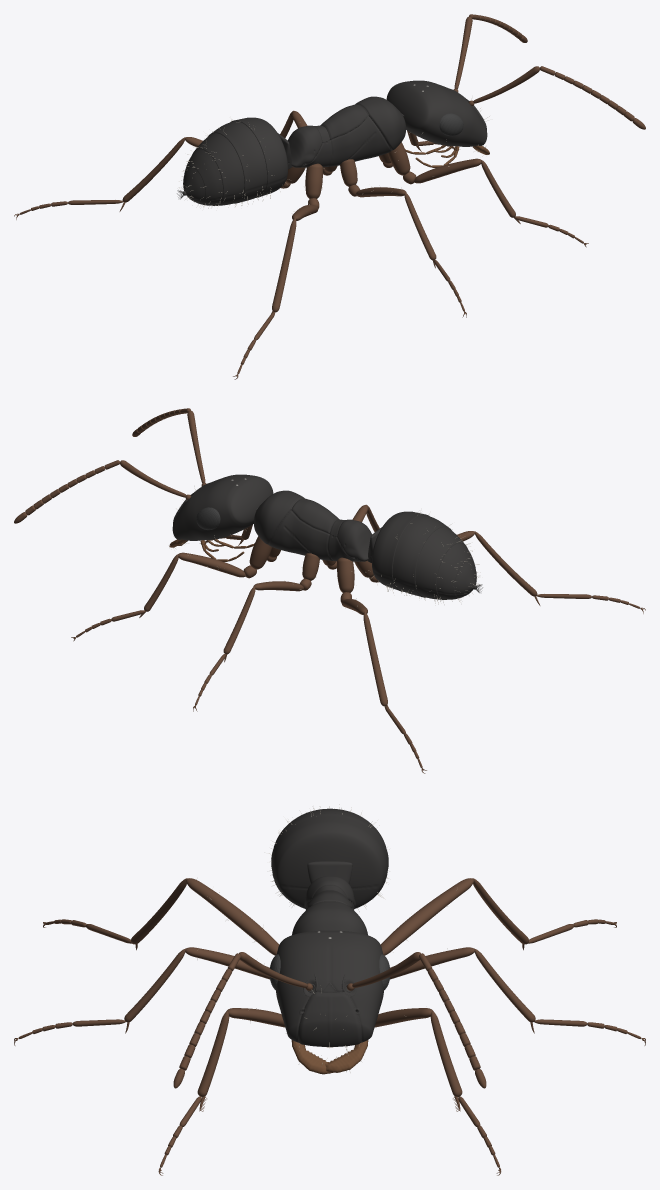
Rendered from formica.glb.
3 views of the same model, one above another, from view 1: azimuth 30°, elevation 25°; view 2: azimuth 150°, elevation 25°; view 3: azimuth 270°, elevation 25° (orthographic). The views are drawn at different scales.
Parts seen in each view (by area): view 1: x-head-capsule, mesosoma, gaster-IV, gaster-V, gaster-III, hl-pronotum, gaster-VI, hl-propodeum, hl-mesonotum, funiculus_R, x-tibia-hind_R, x-femur-fore_R (+3 smaller); view 2: x-head-capsule, mesosoma, gaster-IV, gaster-V, gaster-III, hl-pronotum, gaster-VI, hl-propodeum, hl-mesonotum, funiculus_L, x-tibia-hind_L, x-femur-fore_L (+3 smaller); view 3: x-head-capsule, gaster-III, clypeus, hl-pronotum, x-femur-hind_L, x-femur-hind_R, funiculus_L, funiculus_R, x-tibia-fore_L, x-tibia-fore_R, petiole, x-femur-mid_L (+14 smaller).
Boxes of the visible parts, box(x1,y1,x2,y2) form: x-head-capsule: box(386, 80, 487, 146); mesosoma: box(299, 116, 391, 167); gaster-IV: box(208, 121, 267, 203); gaster-V: box(192, 133, 244, 205); gaster-III: box(230, 117, 287, 197); hl-pronotum: box(355, 96, 405, 150); gaster-VI: box(184, 149, 223, 205); hl-propodeum: box(288, 125, 322, 167); hl-mesonotum: box(321, 104, 368, 139); funiculus_R: box(539, 66, 645, 129); x-tibia-hind_R: box(272, 217, 296, 312); x-femur-fore_R: box(414, 158, 481, 183); x-head-capsule: box(172, 474, 273, 540); mesosoma: box(268, 510, 360, 561); gaster-IV: box(392, 515, 451, 597); gaster-V: box(415, 527, 467, 599); gaster-III: box(372, 511, 429, 591); hl-pronotum: box(254, 490, 304, 544); gaster-VI: box(436, 543, 475, 599); hl-propodeum: box(337, 519, 371, 561); hl-mesonotum: box(291, 498, 338, 533); funiculus_L: box(14, 460, 120, 523); x-tibia-hind_L: box(363, 611, 387, 706); x-femur-fore_L: box(178, 552, 245, 577); x-head-capsule: box(276, 930, 383, 1042); gaster-III: box(271, 813, 388, 908); clypeus: box(298, 992, 361, 1046); hl-pronotum: box(292, 901, 367, 934); x-femur-hind_L: box(380, 878, 473, 955); x-femur-hind_R: box(186, 878, 279, 955); funiculus_L: box(419, 953, 486, 1088); funiculus_R: box(173, 953, 240, 1088); x-tibia-fore_L: box(430, 1011, 462, 1096); x-tibia-fore_R: box(197, 1011, 229, 1096); petiole: box(307, 861, 352, 883); x-femur-mid_L: box(390, 947, 474, 979).
Size of the model in its own units: 7.73 by 2.65 by 7.01.
